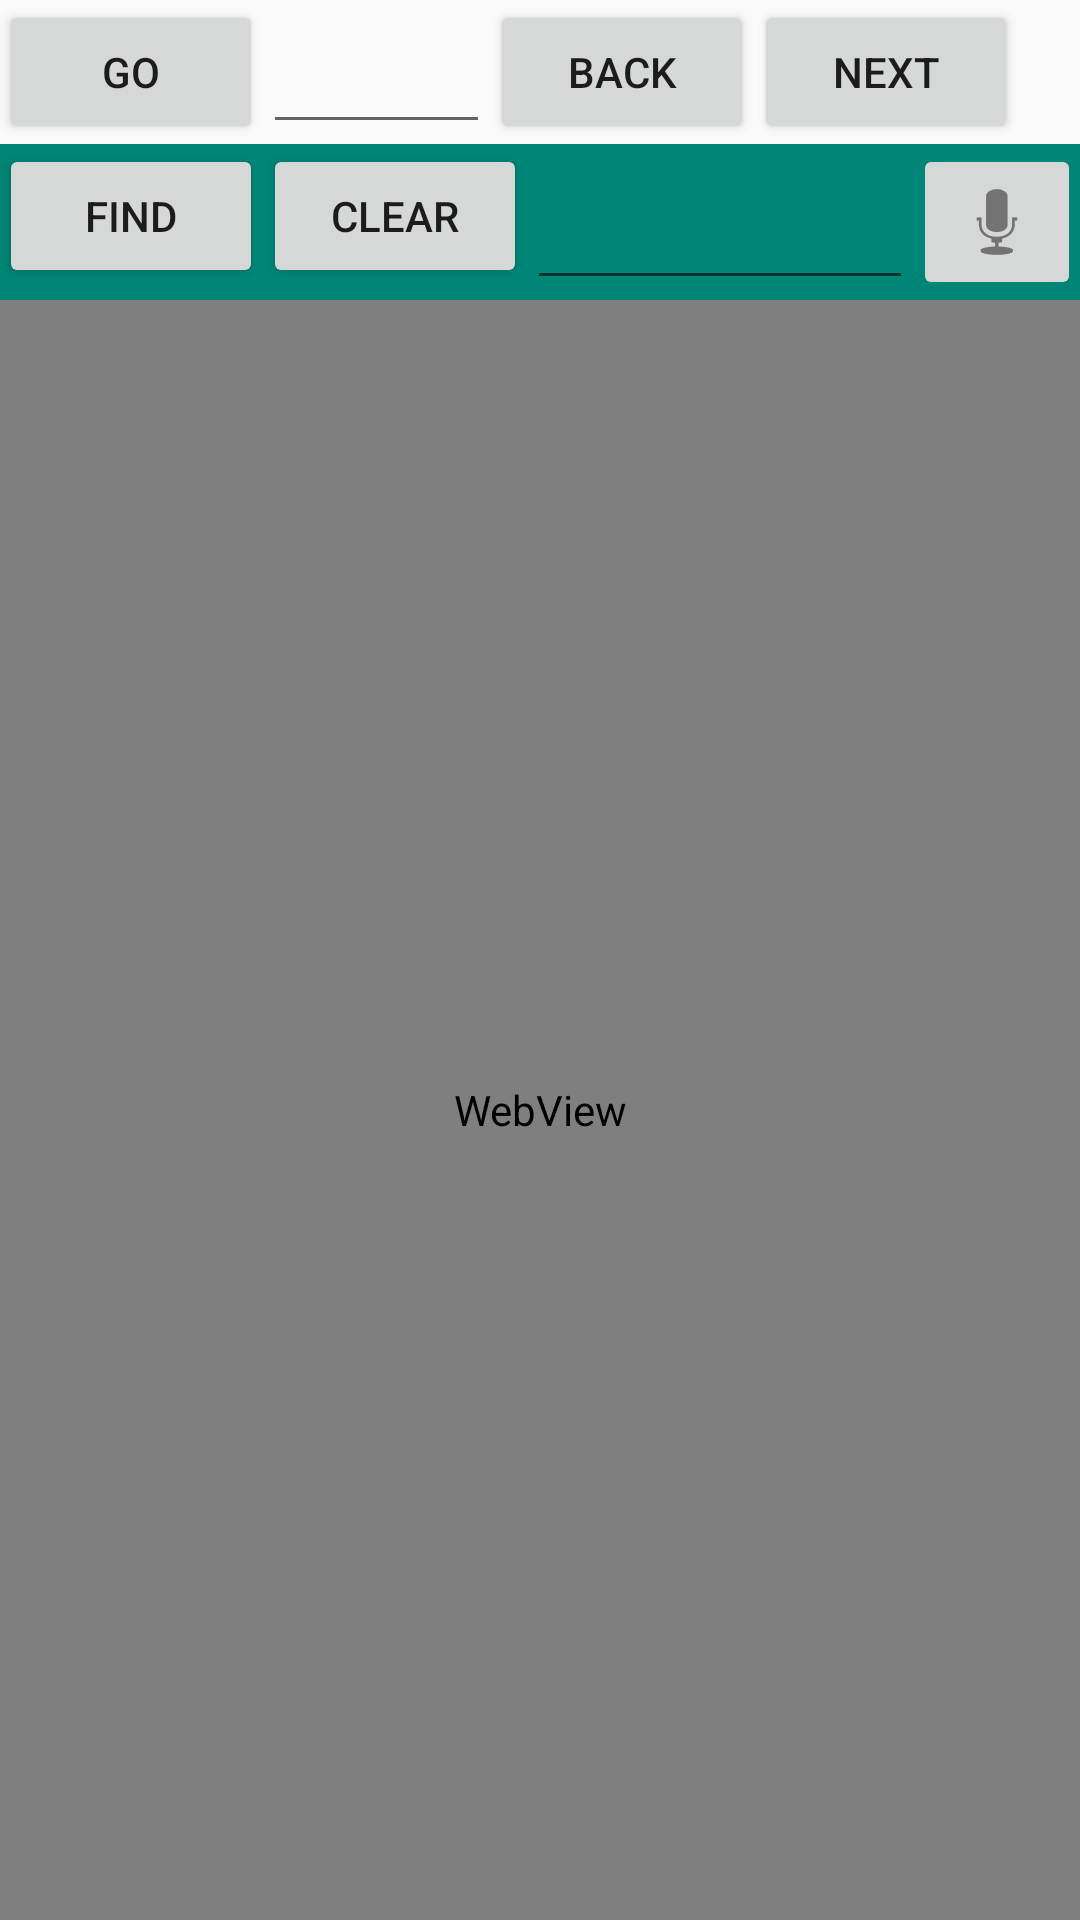

Locate icon controls on the screen. Image size 1080w x 1920h, boxes as box=[x1, y1, x2, y2].
speak now: box=[925, 162, 1069, 282]
